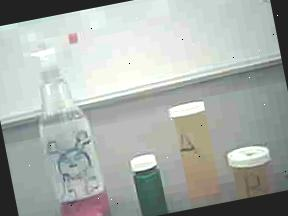Bottle A: (160, 96, 226, 211)
Bottle B: (220, 139, 278, 201)
Bottle C: (124, 148, 171, 216)
hazard: (21, 28, 116, 216)
